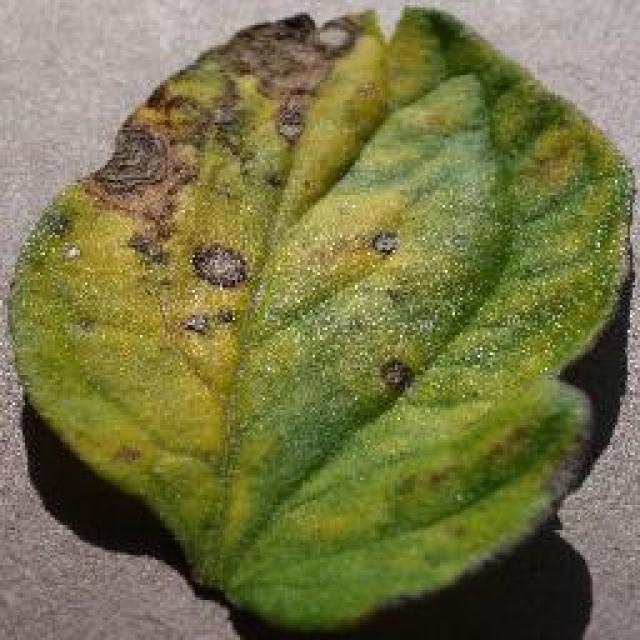Tomato Early blight leaf: (5, 6, 638, 640)
